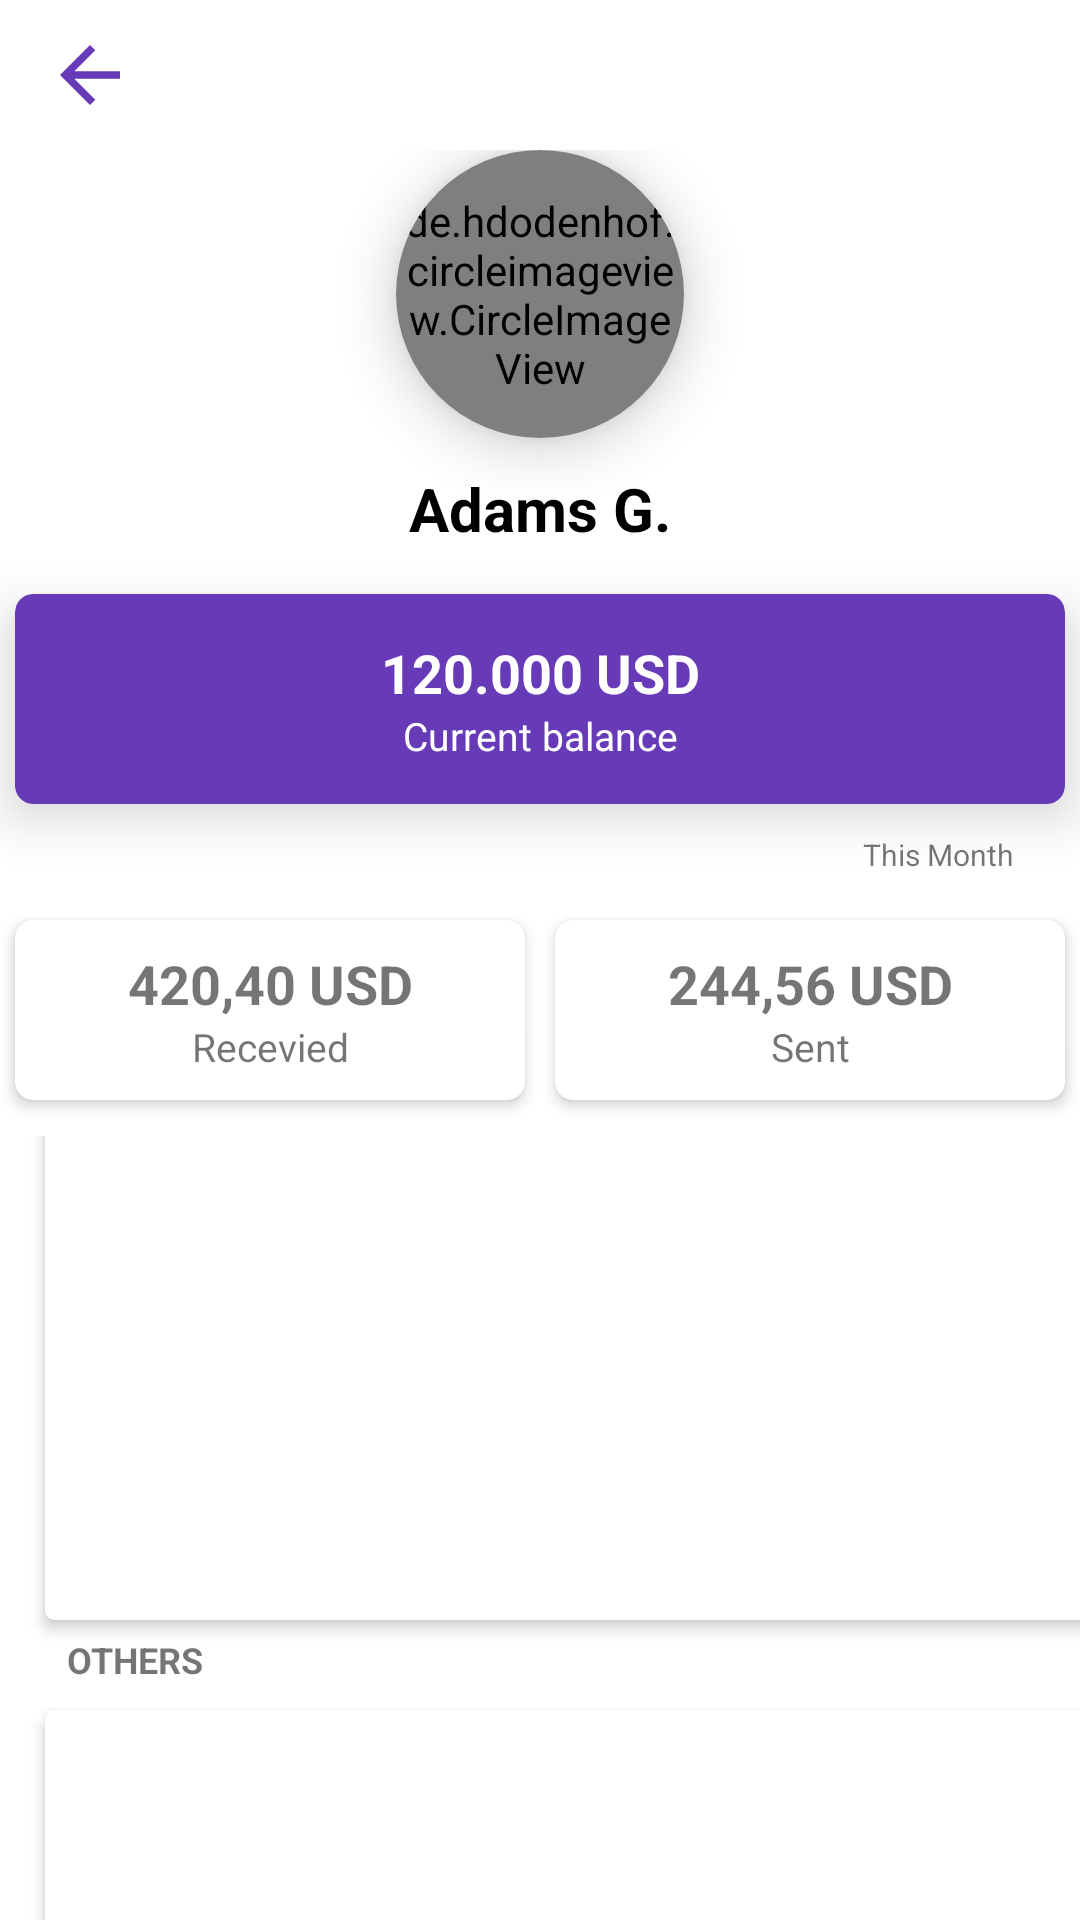

Icons on this 1080x1920 Android screen, each with the point to tap as point (x, y):
arrow back 24lite perple: point (90, 75)
